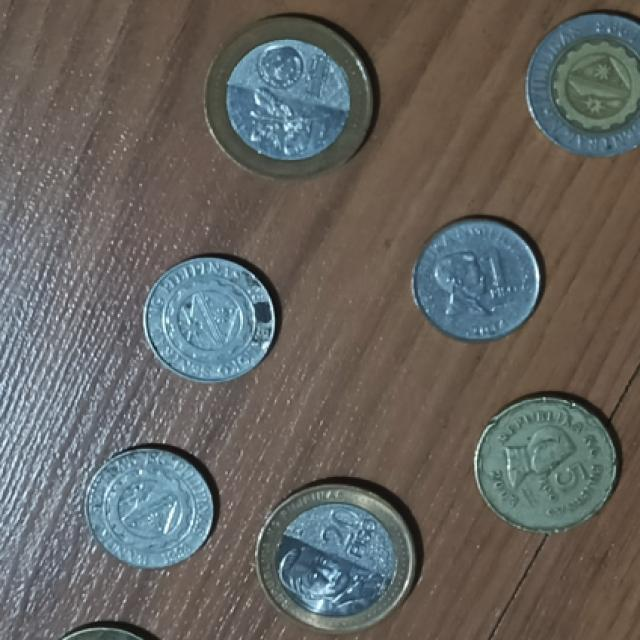10_peso: (527, 12, 638, 156)
1_peso: (143, 258, 275, 381), (414, 218, 539, 341), (86, 447, 211, 567)
20_peso: (205, 18, 370, 178), (257, 483, 415, 630)
5_peso: (475, 396, 617, 532)
